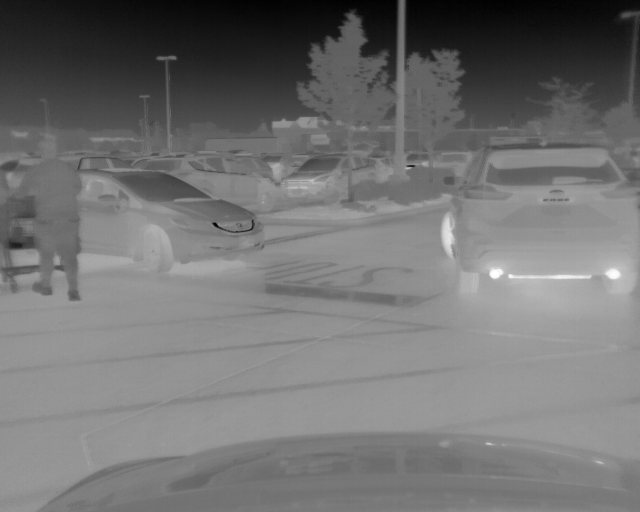car: (438, 143, 640, 295), (77, 168, 267, 273), (128, 155, 280, 214), (277, 154, 393, 204), (432, 147, 473, 183), (403, 149, 440, 174)
people: (18, 140, 82, 300), (1, 163, 16, 289)
